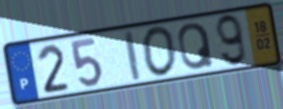2: (35, 42, 72, 96)
5: (68, 35, 106, 90)
9: (215, 13, 249, 69)
I: (121, 28, 143, 83)
O: (140, 24, 179, 79)
Q: (176, 21, 216, 72)
